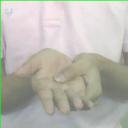hand: (16, 48, 86, 115), (54, 53, 105, 103)
